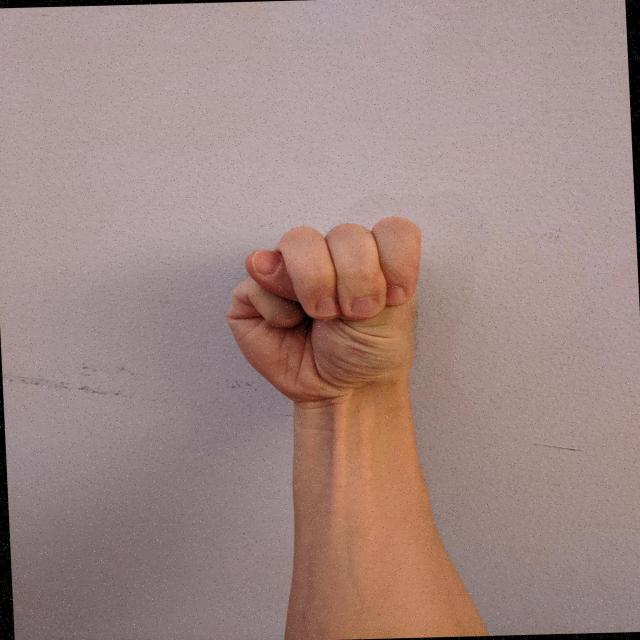M: (214, 205, 440, 412)
